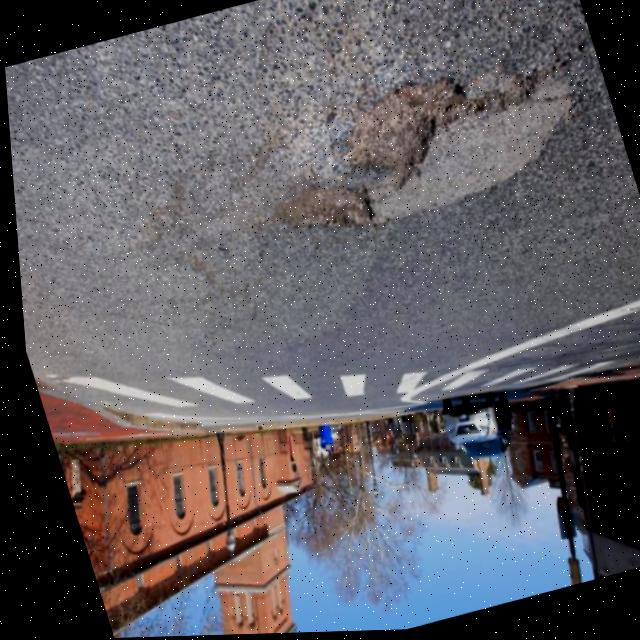Pothole: (304, 30, 517, 215), (253, 153, 390, 269)
